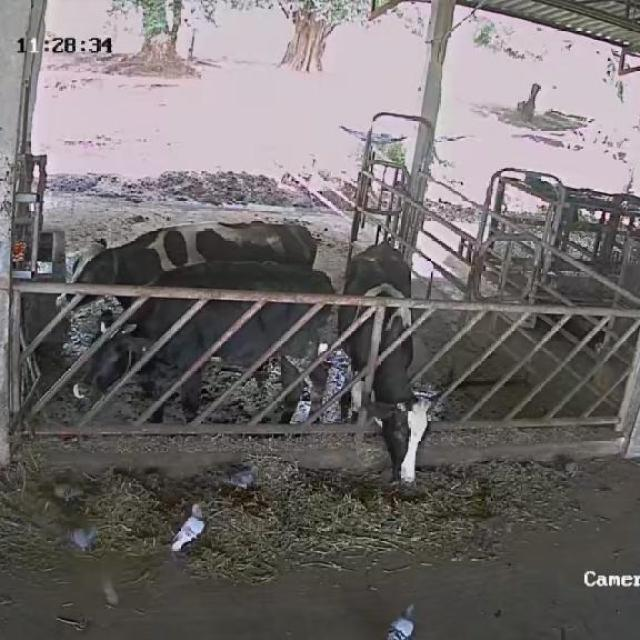feeding: (343, 241, 436, 493)
standing: (64, 251, 335, 427), (51, 216, 322, 316)
